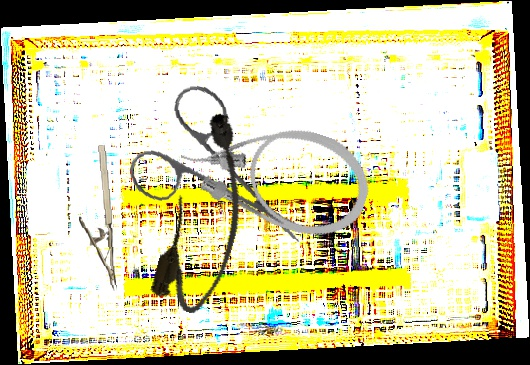Cannula: (169, 93, 382, 251), (147, 108, 267, 319)
Iris Scissors: (118, 73, 309, 265)
Needle Holder: (75, 144, 117, 293)
